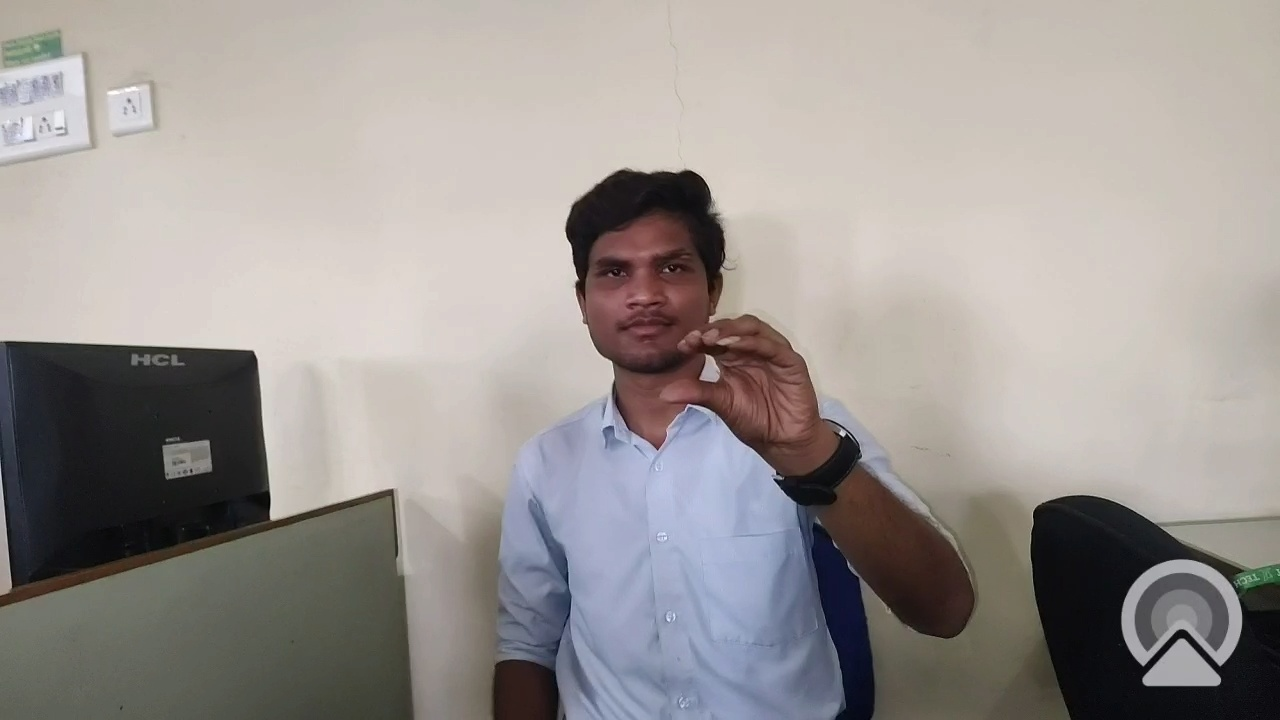No: (642, 292, 835, 459)
